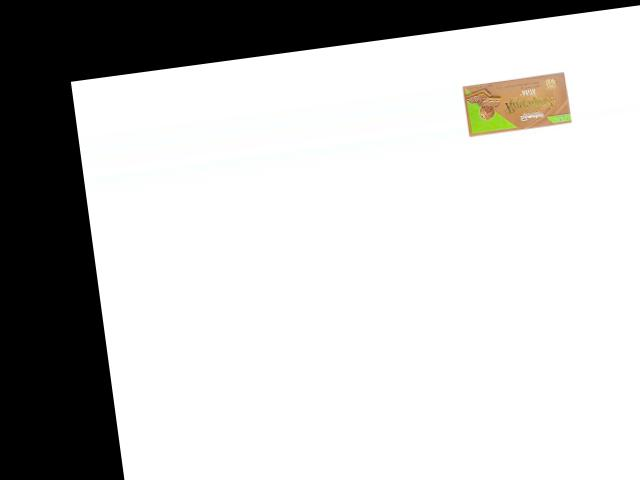chocolate: (459, 66, 576, 139)
